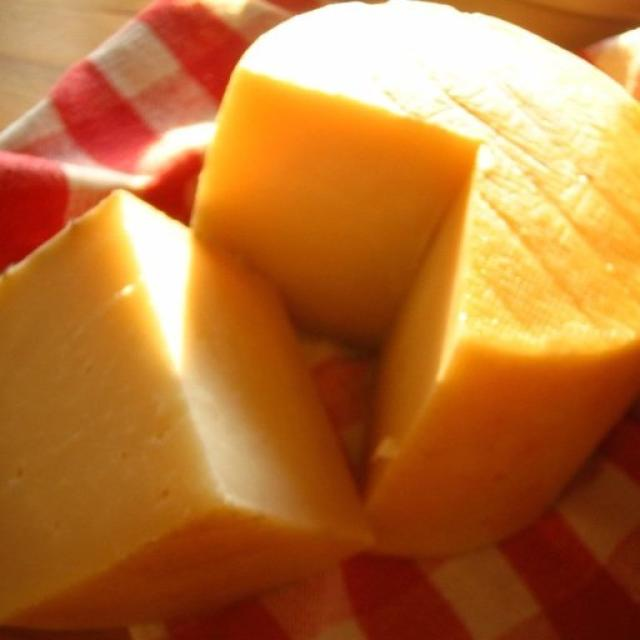cheese: (221, 13, 640, 525)
